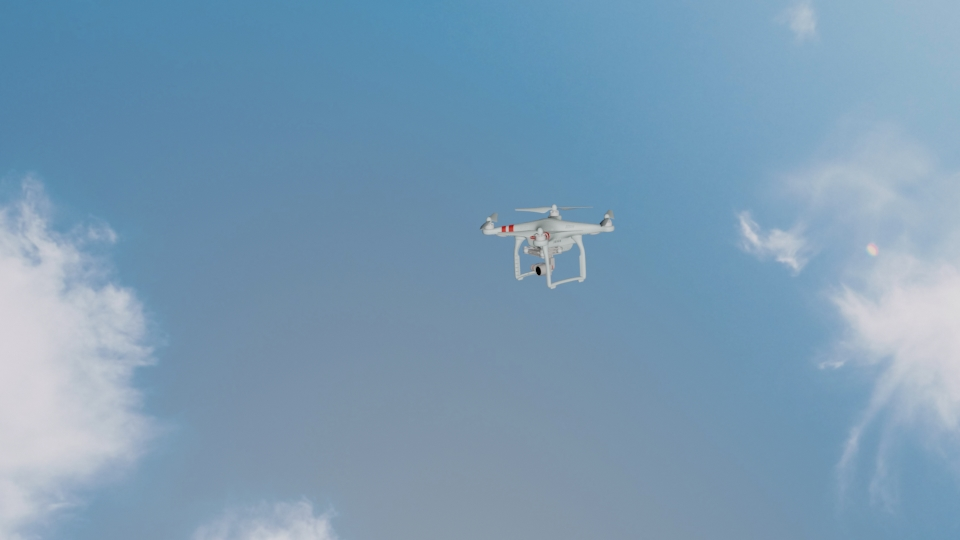drone: (474, 202, 614, 289)
